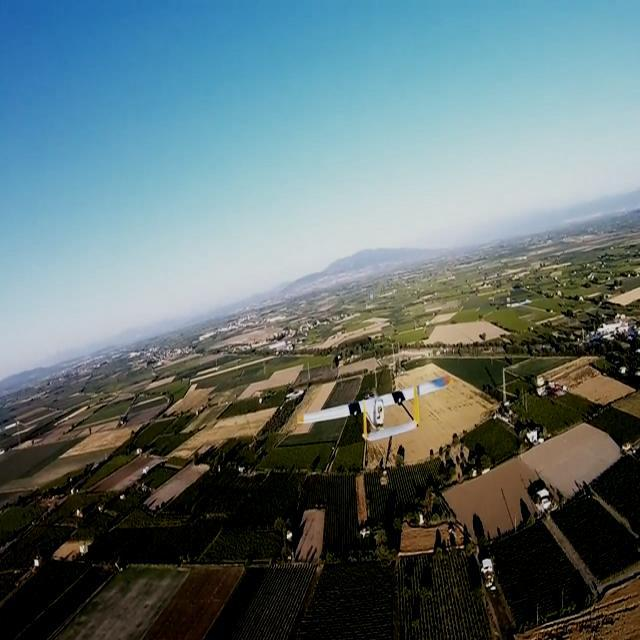iha: (295, 408, 453, 411)
